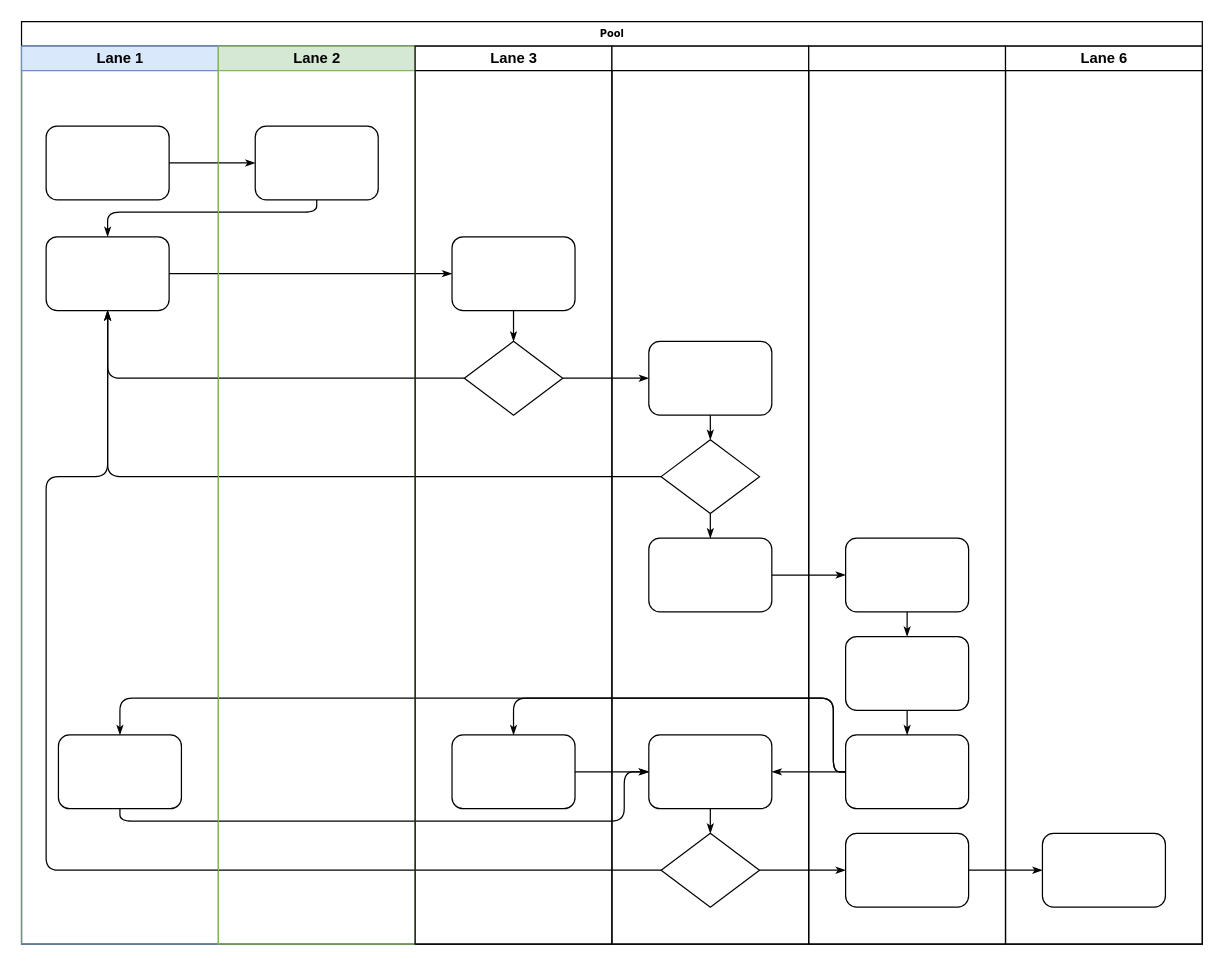
This 1224x966 diagram has some shape labels left out. Here are the shapes that lost their labels. From the top down, the box of each, then its label:
(611, 45, 809, 944): Lane 4
(807, 45, 1006, 944): Lane 5
